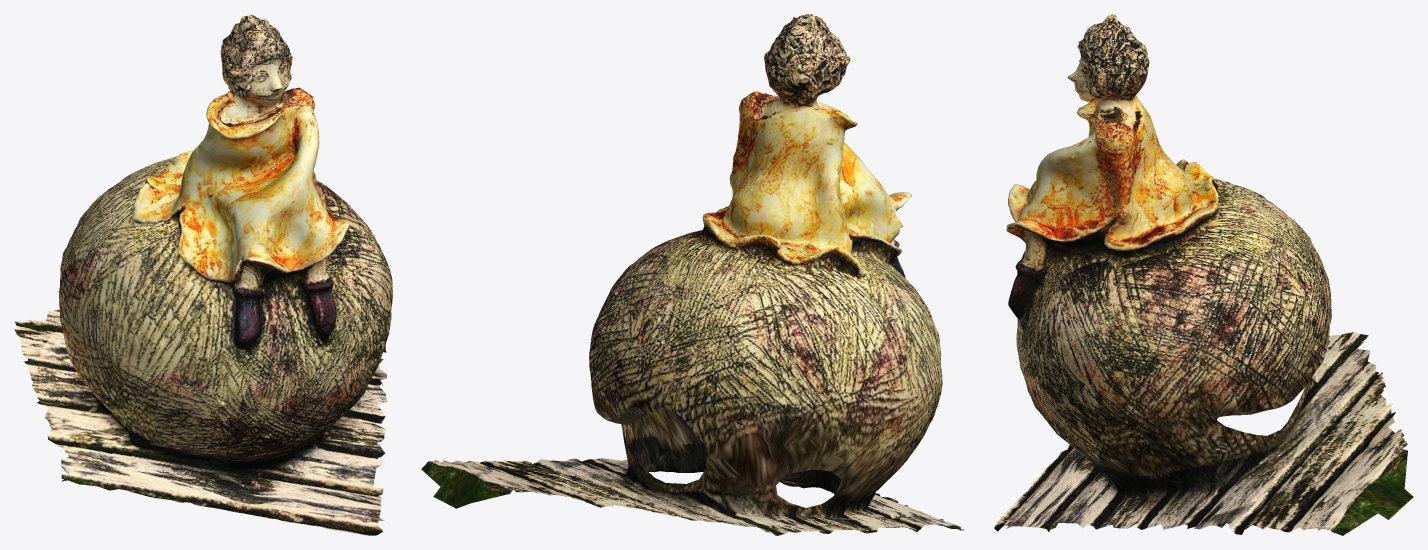
Rendered from goldenGirlOnBall.glb.
The picture shows the model from 3 angles, left to right: view 1: azimuth 30°, elevation 25°; view 2: azimuth 150°, elevation 25°; view 3: azimuth 270°, elevation 25°; orthographic projection. The views are drawn at different scales.
Parts seen in each view (by area): view 1: goldenGirlOnBall; view 2: goldenGirlOnBall; view 3: goldenGirlOnBall.
Part boxes in pixels (x1,y1,x2,y2): goldenGirlOnBall: (14,14,392,535); goldenGirlOnBall: (421,14,964,535); goldenGirlOnBall: (994,14,1413,535).
Size of the model in its own units: 17.87 by 19.95 by 15.81.
Materials: 1 (1 with a texture image).
